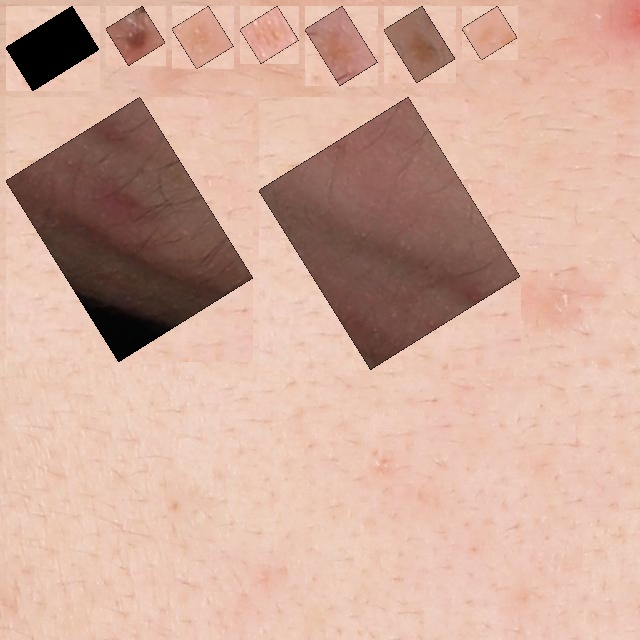hypertrophic_scar: (270, 108, 509, 358), (17, 108, 242, 350)
melasma: (17, 17, 88, 80), (316, 17, 366, 74), (395, 17, 444, 71), (183, 17, 222, 58), (251, 17, 287, 52), (473, 17, 506, 49)
nevus: (117, 17, 154, 54)
